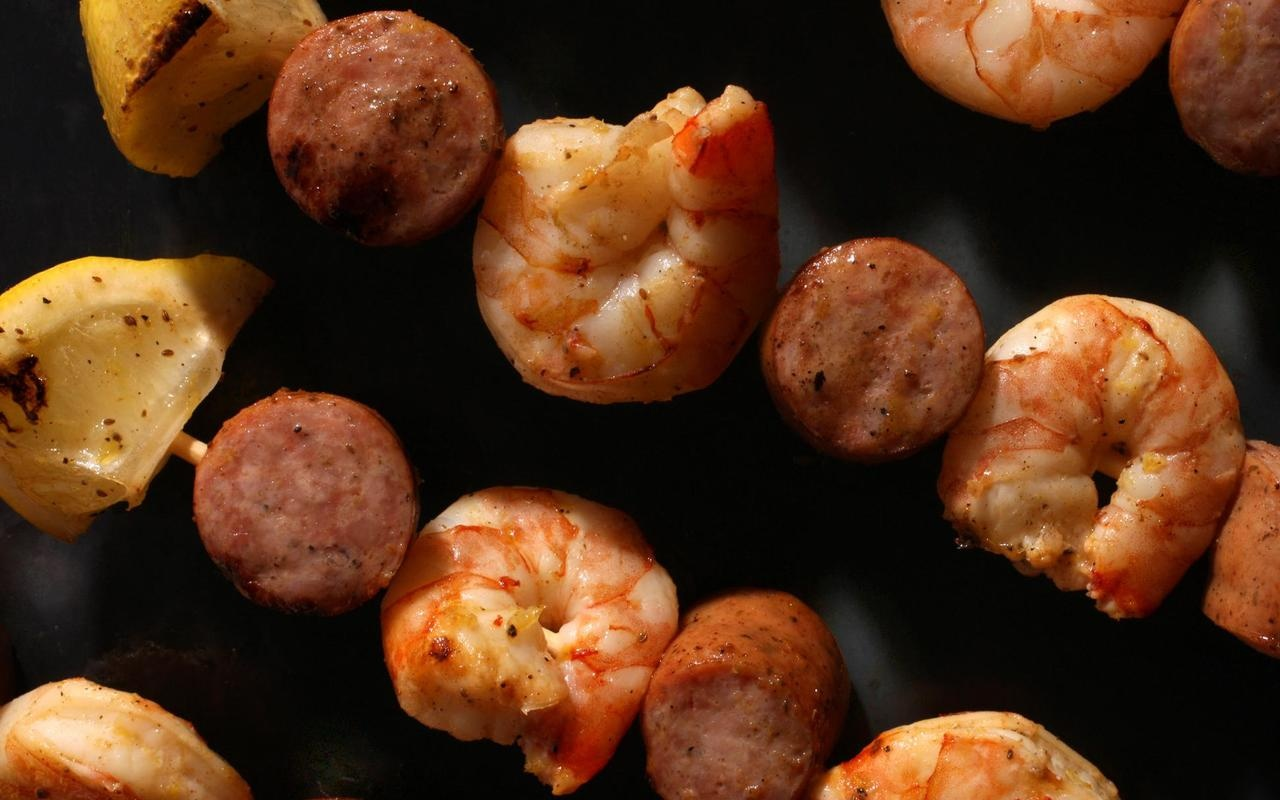background: (0, 318, 552, 680)
